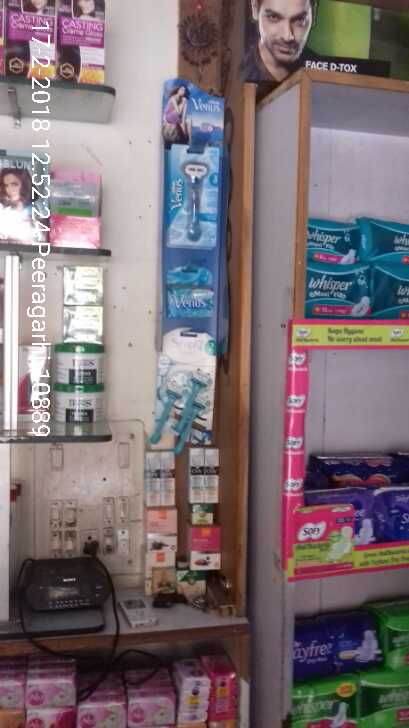beauty: (164, 146, 218, 248), (162, 261, 222, 327)
pharmacy: (302, 267, 376, 317), (309, 220, 358, 265)
